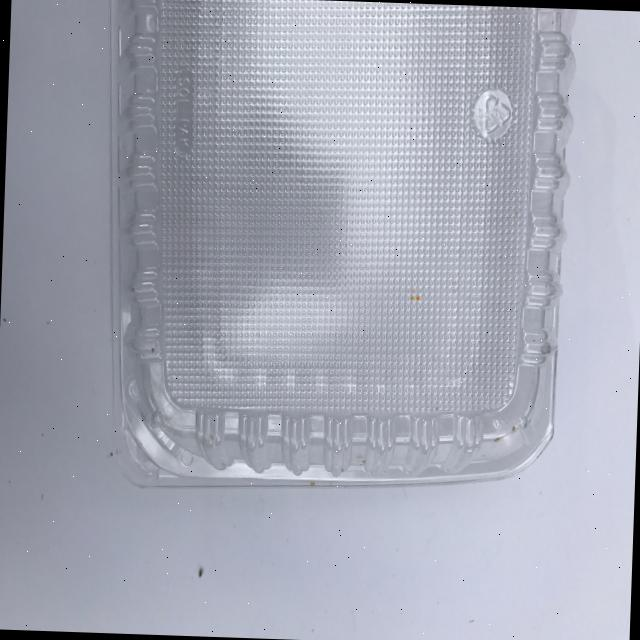plastic: (93, 0, 578, 500)
